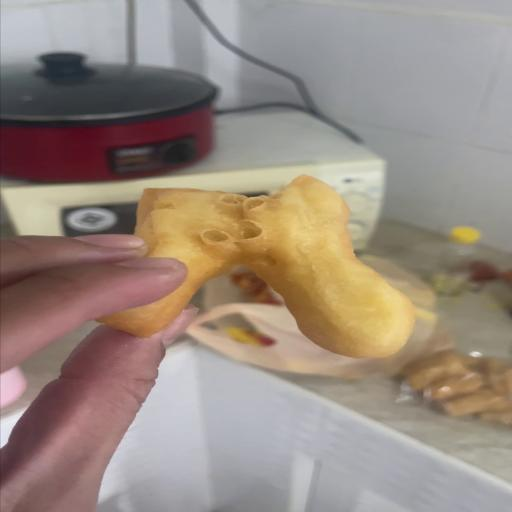street_golden_defect: (102, 176, 414, 359)
